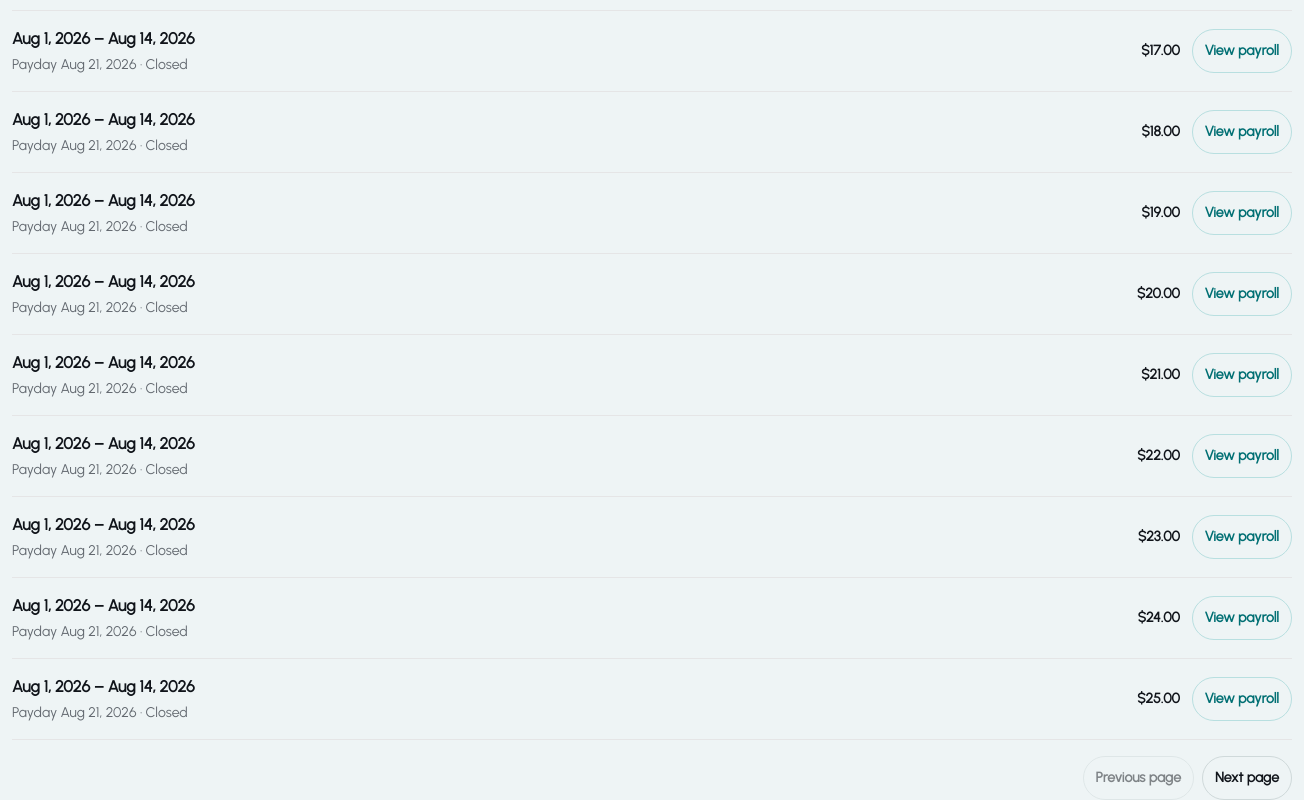
PayrollHistoryPanel › mounts one bounded 25-row page and replaces it when the cursor advances
(page scrolled)
Click the button "Next page" at (1247, 778), box [1202,756,1292,799]
(page scrolled)
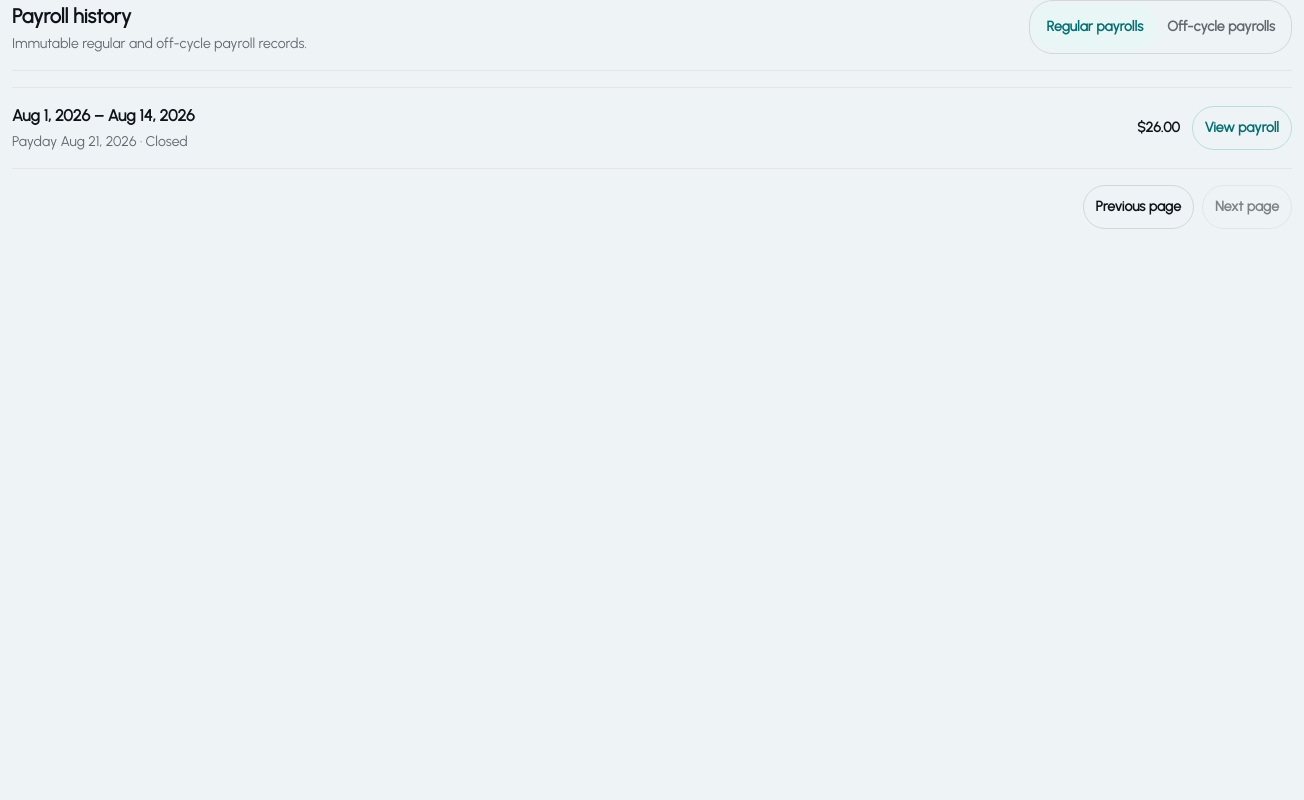
Expected: the number of buttons "View payroll" is 1, [1192,106,1292,150]
